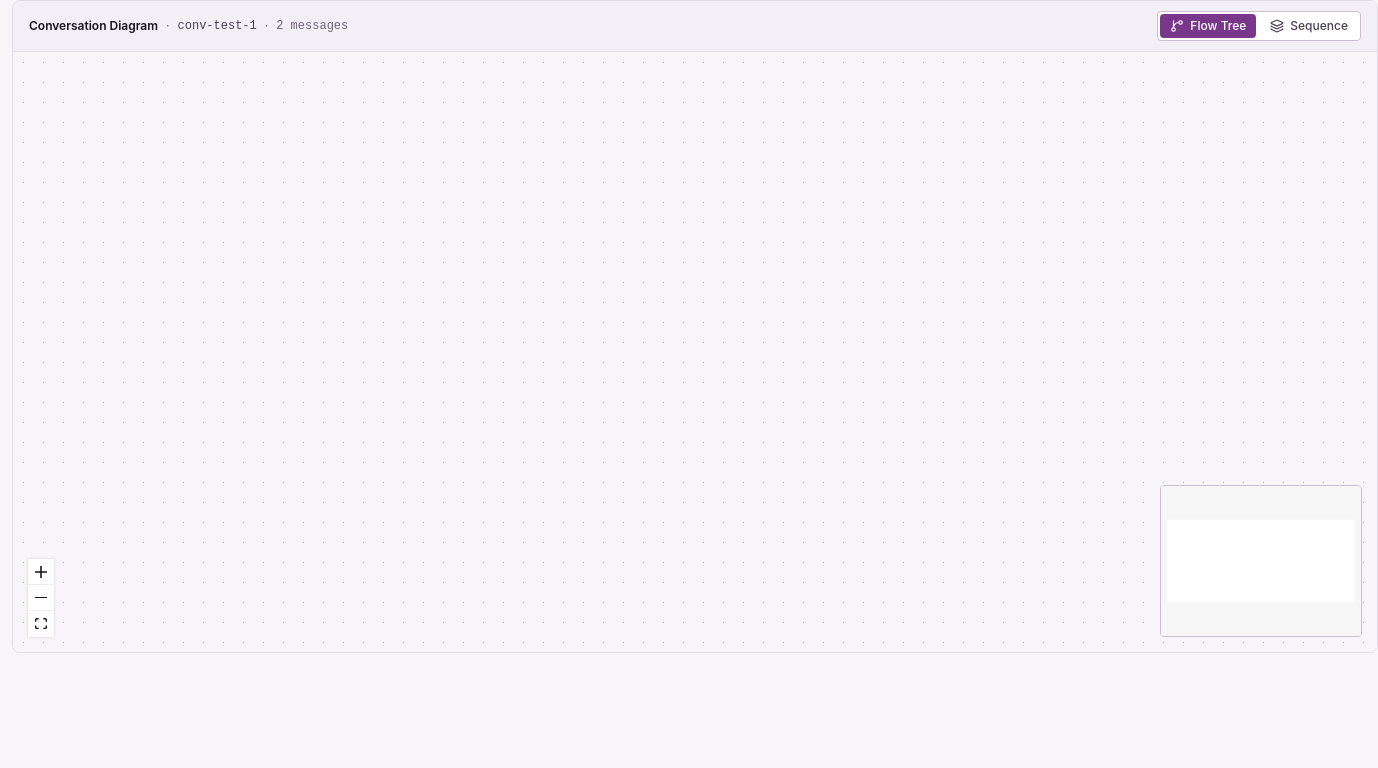
Conversation & Saga Views › ConversationDiagram › renders flow tree view and switches to sequence view
expect the button with test id "diagram-view-flow" is shown: met, box [1160,14,1256,38]
# Switch to sequence view
Step 1. Click the button with test id "diagram-view-sequence" → (1309, 26), box [1260,14,1358,38]
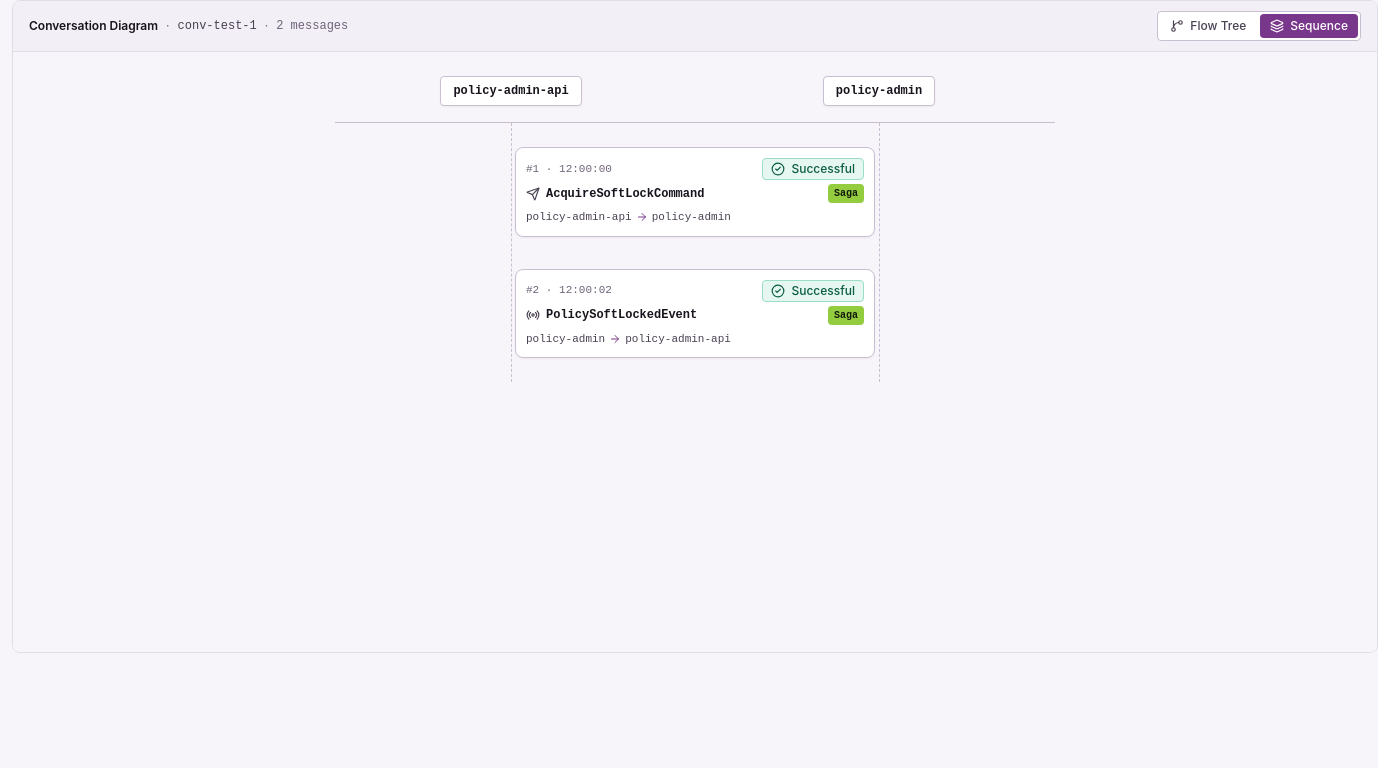
expect the element with test id "sequence-diagram-canvas" is shown: met
expect the element with test id "sequence-node-node-1" is shown: met, box [515,147,875,236]
